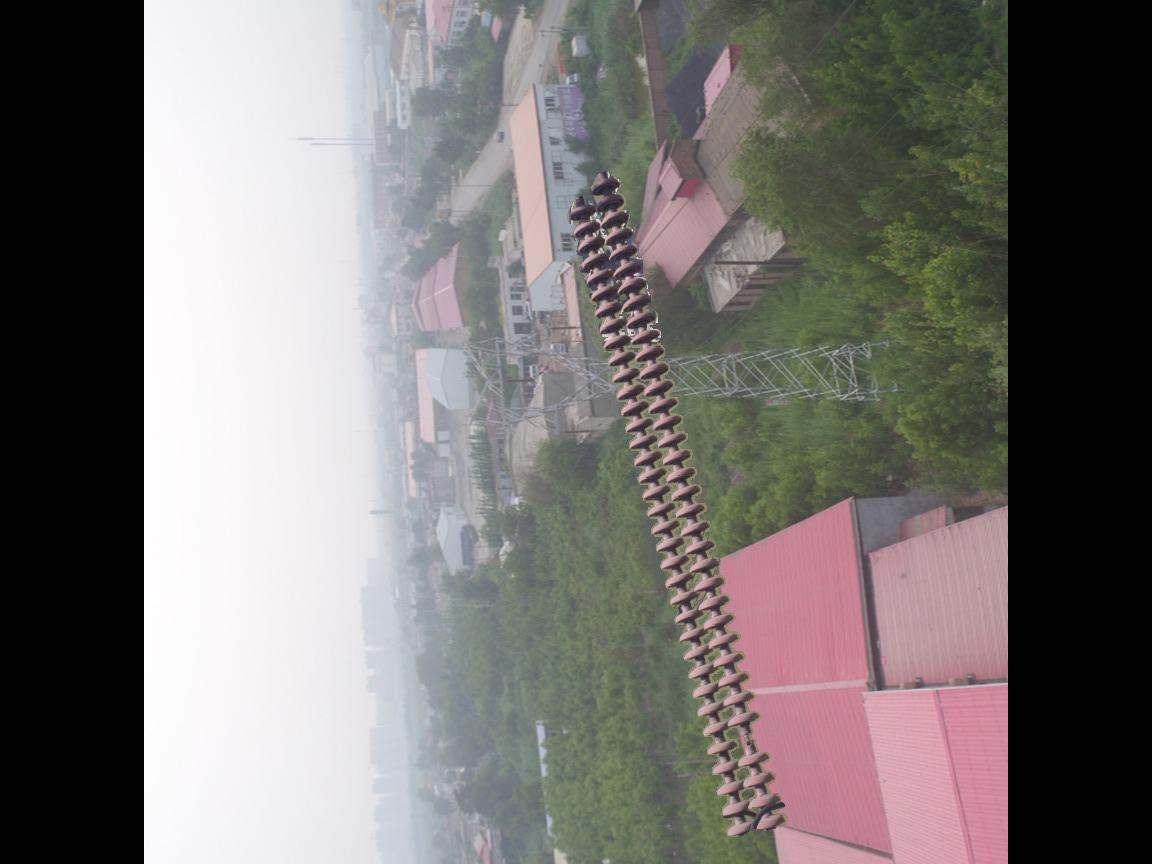insulator: (566, 169, 792, 843)
insulator_stringdrop: (726, 708, 773, 770)
